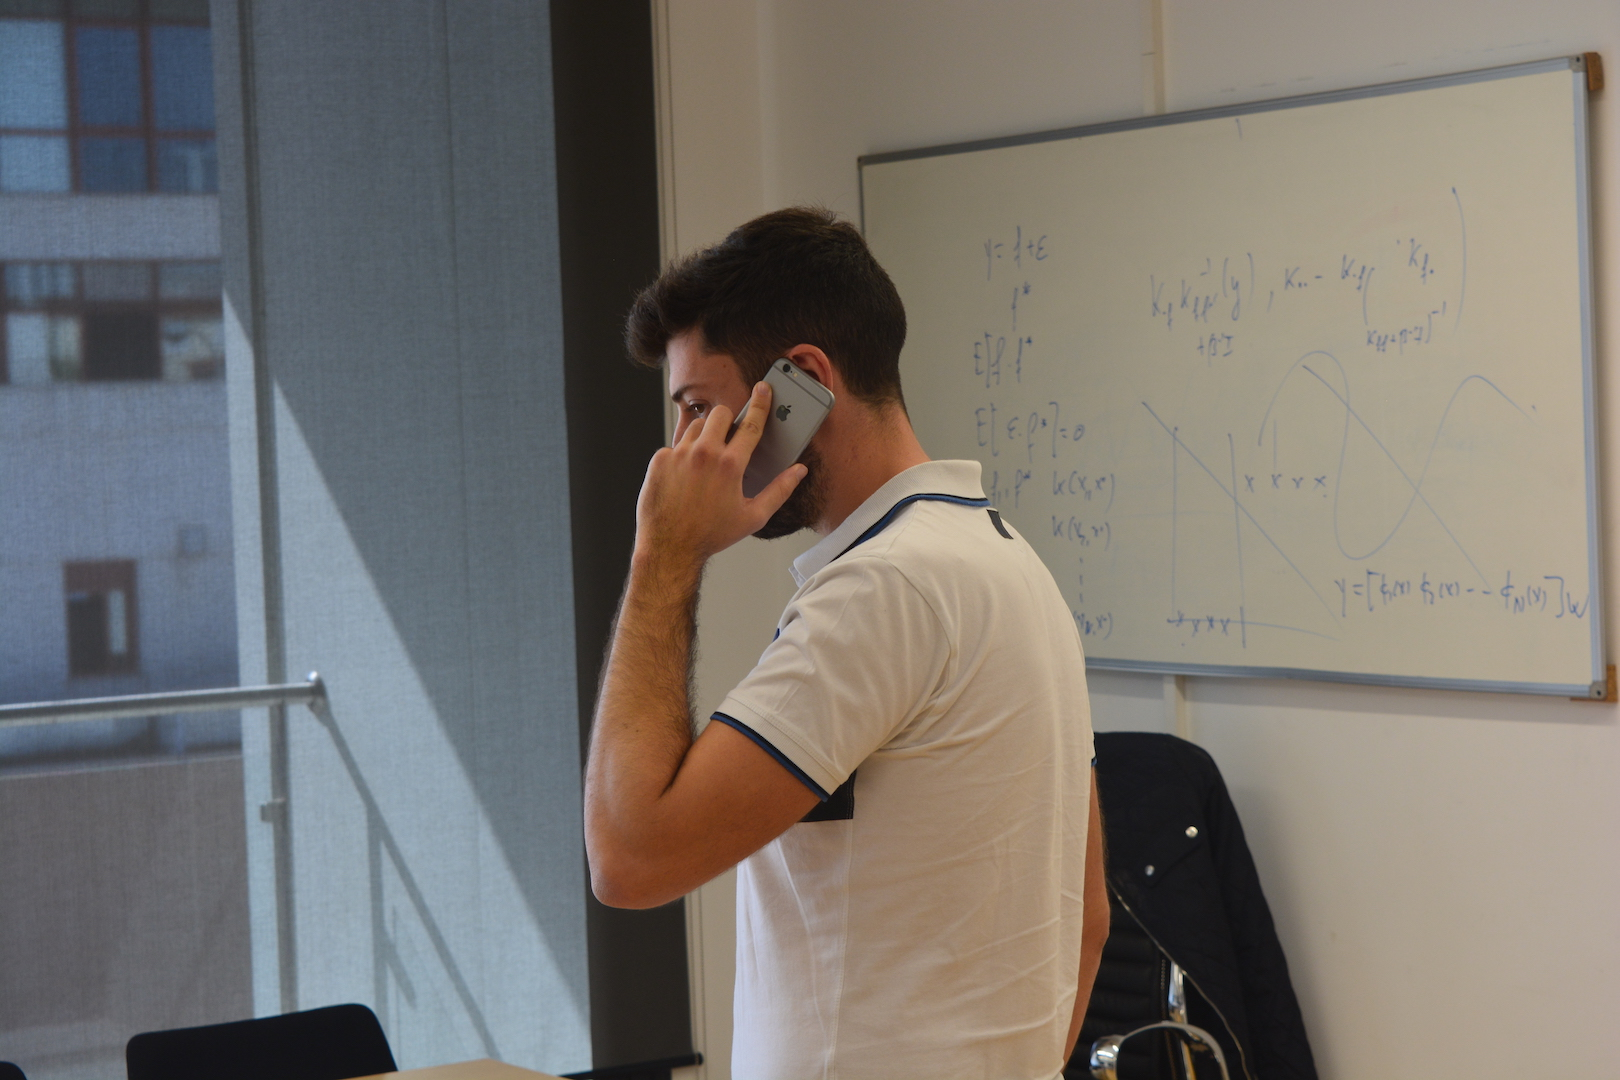smartphone: (723, 356, 837, 501)
